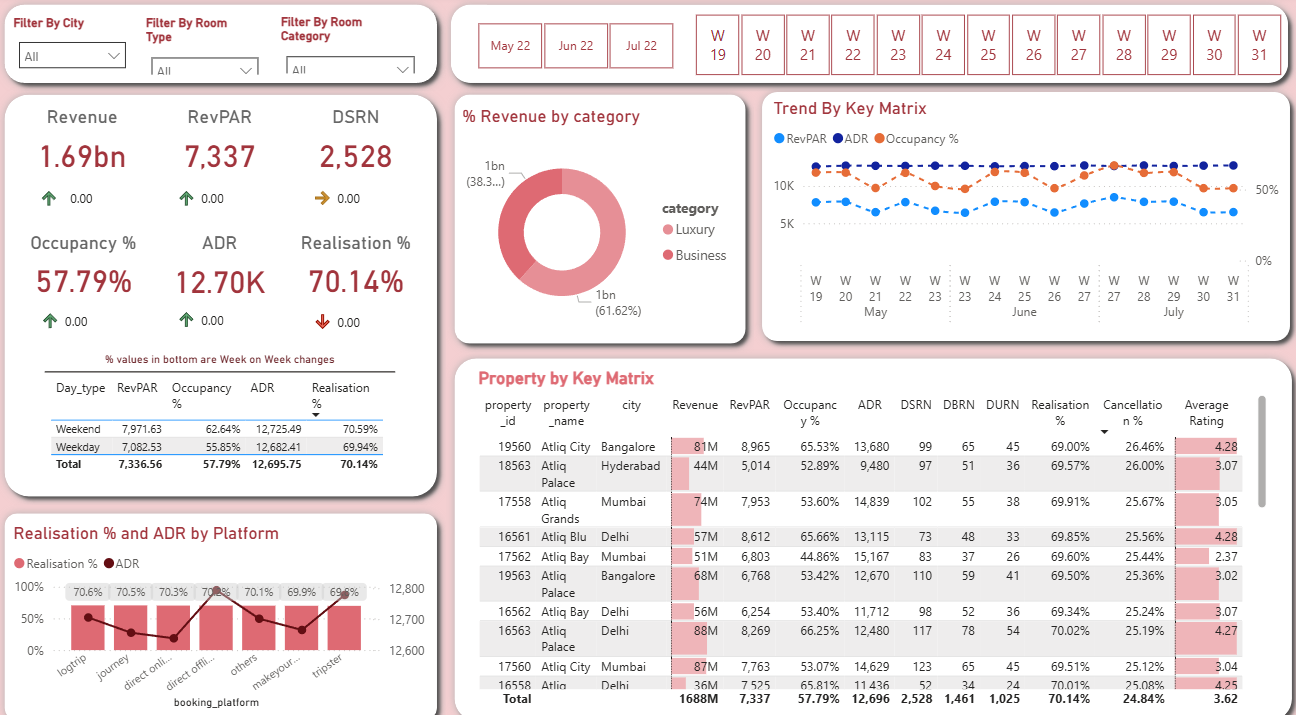

The dashboard page shown, as its layout file describes it:
{"tool":"powerbi","page":{"name":"Page 1","canvas":[1280,720],"ordinal":0},"visuals":[{"type":"shape","box":[743.8,86.2,535,261.2],"z":0},{"type":"shape","box":[441.2,88.8,302.5,261.2],"z":1000},{"type":"shape","box":[0,88.8,441.2,411.2],"z":2000},{"type":"shape","box":[441.2,347.5,838.8,372.5],"z":3000},{"type":"shape","box":[437.5,0,838.8,93.8],"z":4000},{"type":"shape","box":[0,0,441.2,93.8],"z":5000},{"type":"slicer","title":"Filter By City","fields":{"Values":["dim_hotels.city"]},"box":[12.7,20.1,125.4,57],"z":6000},{"type":"slicer","fields":{"Values":["dim_date.week no"]},"box":[665.9,15.5,614.1,63.4],"z":7000},{"type":"pivotTable","fields":{"Values":["key_measures.\"Revenue WoW change %"]},"box":[20,164,130,57.5],"z":8000},{"type":"slicer","title":"Filter By Room Type","fields":{"Values":["dim_date.mmm yy"]},"box":[452.5,25,231.2,48.8],"z":9000},{"type":"slicer","title":"Filter By Room Type","fields":{"Values":["dim_rooms.room_class"]},"box":[142.5,20,125,57.5],"z":10000},{"type":"slicer","title":"Filter By Room Category","fields":{"Values":["dim_hotels.category"]},"box":[275,18.8,146.2,57.5],"z":11000},{"type":"tableEx","title":"Property by Key Matrix","fields":{"Values":["dim_hotels.property_id","dim_hotels.property_name","dim_hotels.city","key_measures.Revenue","key_measures.RevPAR","key_measures.Occupancy %","key_measures.ADR","key_measures.DSRN","key_measures.DBRN","key_measures.DURN","key_measures.Realisation %","key_measures.Cancellation %"]},"box":[468.8,365,783.8,338.8],"z":12000},{"type":"card","title":"Revenue","fields":{"Values":["key_measures.Revenue"]},"box":[20,107.7,130,72.5],"z":13000},{"type":"pivotTable","fields":{"Values":["key_measures.\"Occupancy WoW change %"]},"box":[20.5,284.5,130,57.5],"z":14000},{"type":"card","title":"Occupancy %","fields":{"Values":["key_measures.Occupancy %"]},"box":[20.5,232,130,72.5],"z":15000},{"type":"pivotTable","fields":{"Values":["key_measures.\"ADR WoW change %"]},"box":[155,284,130,57.5],"z":16000},{"type":"card","title":"ADR","fields":{"Values":["key_measures.ADR"]},"box":[155,231.5,130,72.5],"z":17000},{"type":"pivotTable","fields":{"Values":["key_measures.\"Realisation WoW change %"]},"box":[288.8,286.5,130,55],"z":18000},{"type":"card","title":"Realisation %","fields":{"Values":["key_measures.Realisation %"]},"box":[288.8,231.5,130,72.5],"z":19000},{"type":"pivotTable","fields":{"Values":["key_measures.\"Revpar WoW change %"]},"box":[155,164,130,57.5],"z":20000},{"type":"card","title":"RevPAR","fields":{"Values":["key_measures.RevPAR"]},"box":[155,107.7,130,72.5],"z":21000},{"type":"pivotTable","fields":{"Values":["key_measures.\"DSRN WoW change %"]},"box":[288.8,164,130,57.5],"z":22000},{"type":"card","title":"DSRN","fields":{"Values":["key_measures.DSRN"]},"box":[288.8,107.7,130,72.5],"z":23000},{"type":"tableEx","title":"% values in bottom are Week on Week changes","fields":{"Values":["dim_date.day_type","key_measures.RevPAR","key_measures.Occupancy %","key_measures.ADR","key_measures.Realisation %"]},"box":[47.5,350.2,343.8,123.8],"z":24000},{"type":"donutChart","title":"% Revenue by category","fields":{"Category":["dim_hotels.category"],"Y":["key_measures.Revenue"]},"box":[452.5,107.5,280,227.5],"z":25000},{"type":"lineChart","title":"Trend By Key Matrix","fields":{"Y":["key_measures.RevPAR","key_measures.ADR"],"Y2":["key_measures.Occupancy %"],"Category":["dim_date.mmm yy.Variation.Date Hierarchy.Month","dim_date.week no"]},"box":[758.8,100,506.2,232.5],"z":26000},{"type":"shape","box":[0,500,441.2,220],"z":27000},{"type":"lineStackedColumnComboChart","title":"Realisation % and ADR by Platform","fields":{"Y":["key_measures.Realisation %"],"Category":["fact_bookings.booking_platform"],"Y2":["key_measures.ADR"]},"box":[12.5,516.2,413.8,187.5],"z":28000}]}

Visuals, with their boxes in screenshot pixels (x1, y1, x2, y2), scaled from the page's 1280x720 canvas onto the 1296x715 screenshot:
shape: (left=753, top=86, right=1295, bottom=345)
shape: (left=447, top=88, right=753, bottom=348)
shape: (left=0, top=88, right=447, bottom=497)
shape: (left=447, top=345, right=1295, bottom=714)
shape: (left=443, top=0, right=1292, bottom=93)
shape: (left=0, top=0, right=447, bottom=93)
"Filter By City" slicer: (left=13, top=20, right=140, bottom=77)
slicer - dim_date.week no: (left=674, top=15, right=1295, bottom=78)
pivotTable - key_measures."Revenue WoW change %: (left=20, top=163, right=152, bottom=220)
"Filter By Room Type" slicer: (left=458, top=25, right=692, bottom=73)
"Filter By Room Type" slicer: (left=144, top=20, right=271, bottom=77)
"Filter By Room Category" slicer: (left=278, top=19, right=426, bottom=76)
"Property by Key Matrix" tableEx: (left=475, top=362, right=1268, bottom=699)
"Revenue" card: (left=20, top=107, right=152, bottom=179)
pivotTable - key_measures."Occupancy WoW change %: (left=21, top=283, right=152, bottom=340)
"Occupancy %" card: (left=21, top=230, right=152, bottom=302)
pivotTable - key_measures."ADR WoW change %: (left=157, top=282, right=289, bottom=339)
"ADR" card: (left=157, top=230, right=289, bottom=302)
pivotTable - key_measures."Realisation WoW change %: (left=292, top=285, right=424, bottom=339)
"Realisation %" card: (left=292, top=230, right=424, bottom=302)
pivotTable - key_measures."Revpar WoW change %: (left=157, top=163, right=289, bottom=220)
"RevPAR" card: (left=157, top=107, right=289, bottom=179)
pivotTable - key_measures."DSRN WoW change %: (left=292, top=163, right=424, bottom=220)
"DSRN" card: (left=292, top=107, right=424, bottom=179)
"% values in bottom are Week on Week changes" tableEx: (left=48, top=348, right=396, bottom=471)
"% Revenue by category" donutChart: (left=458, top=107, right=742, bottom=333)
"Trend By Key Matrix" lineChart: (left=768, top=99, right=1281, bottom=330)
shape: (left=0, top=497, right=447, bottom=714)
"Realisation % and ADR by Platform" lineStackedColumnComboChart: (left=13, top=513, right=432, bottom=699)
